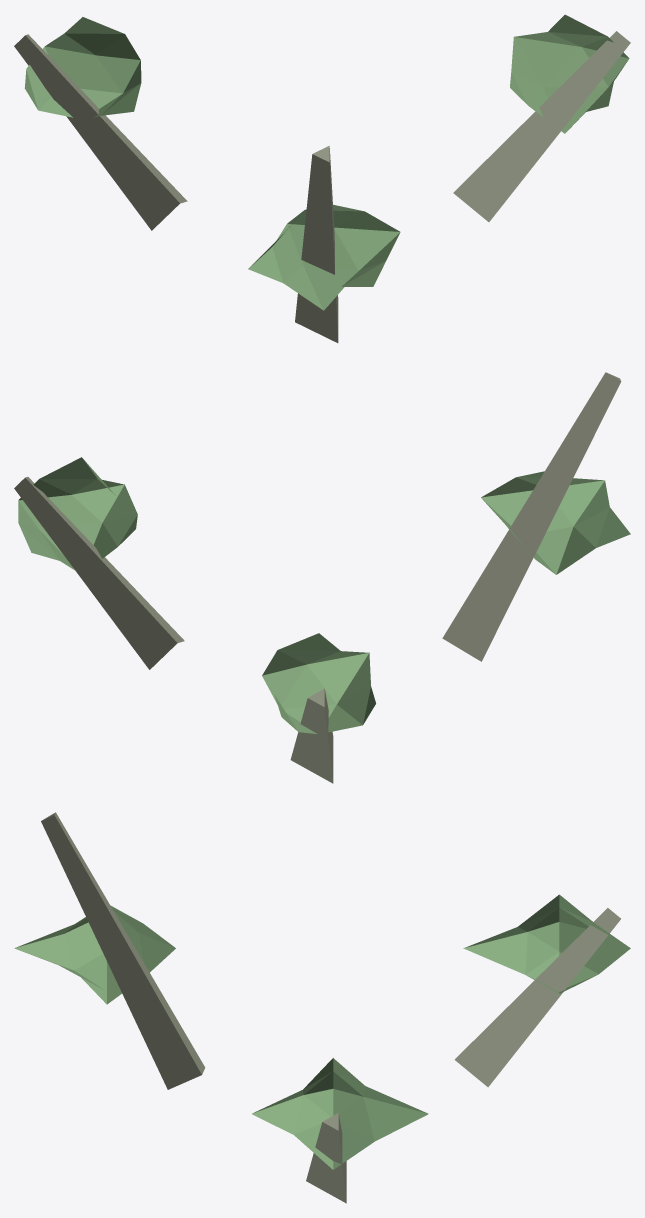
The model's file is bramble_v16.glb.
3 renders of one model, top to bottom at view 1: azimuth 30°, elevation 25°; view 2: azimuth 150°, elevation 25°; view 3: azimuth 270°, elevation 25°, orthographic. The views are drawn at different scales.
Parts seen in each view (by area): view 1: lod0; view 2: lod0; view 3: lod0.
Part boxes in pixels (bbox=[...]): lod0: bbox=[14, 14, 630, 342]; lod0: bbox=[14, 372, 630, 783]; lod0: bbox=[14, 812, 630, 1203].
Size of what is drawn, in the model's own units: 0.5012 by 0.2511 by 0.5669.
